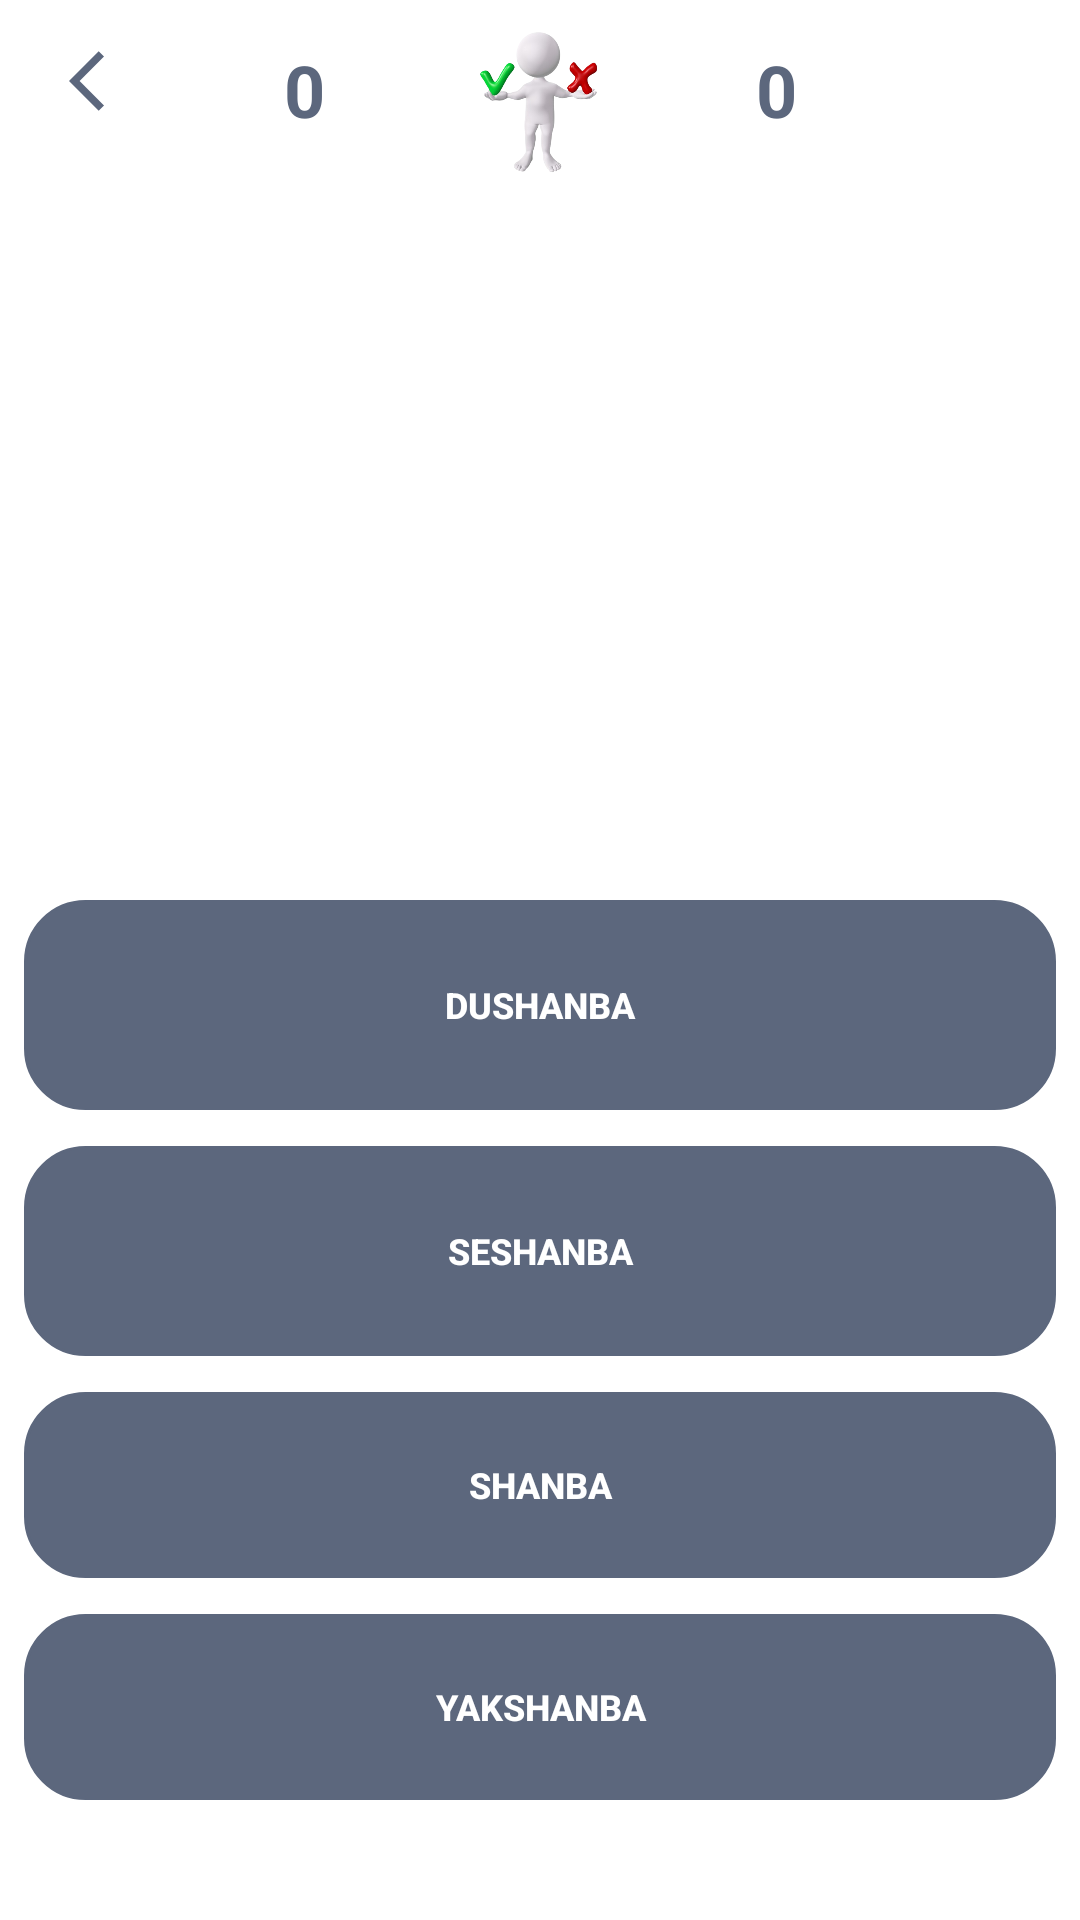

Point at icon controls on the screen. Image size 1080px x 1920px, points as [x,y].
back: [86,81]
correctorwrong: [538,102]
